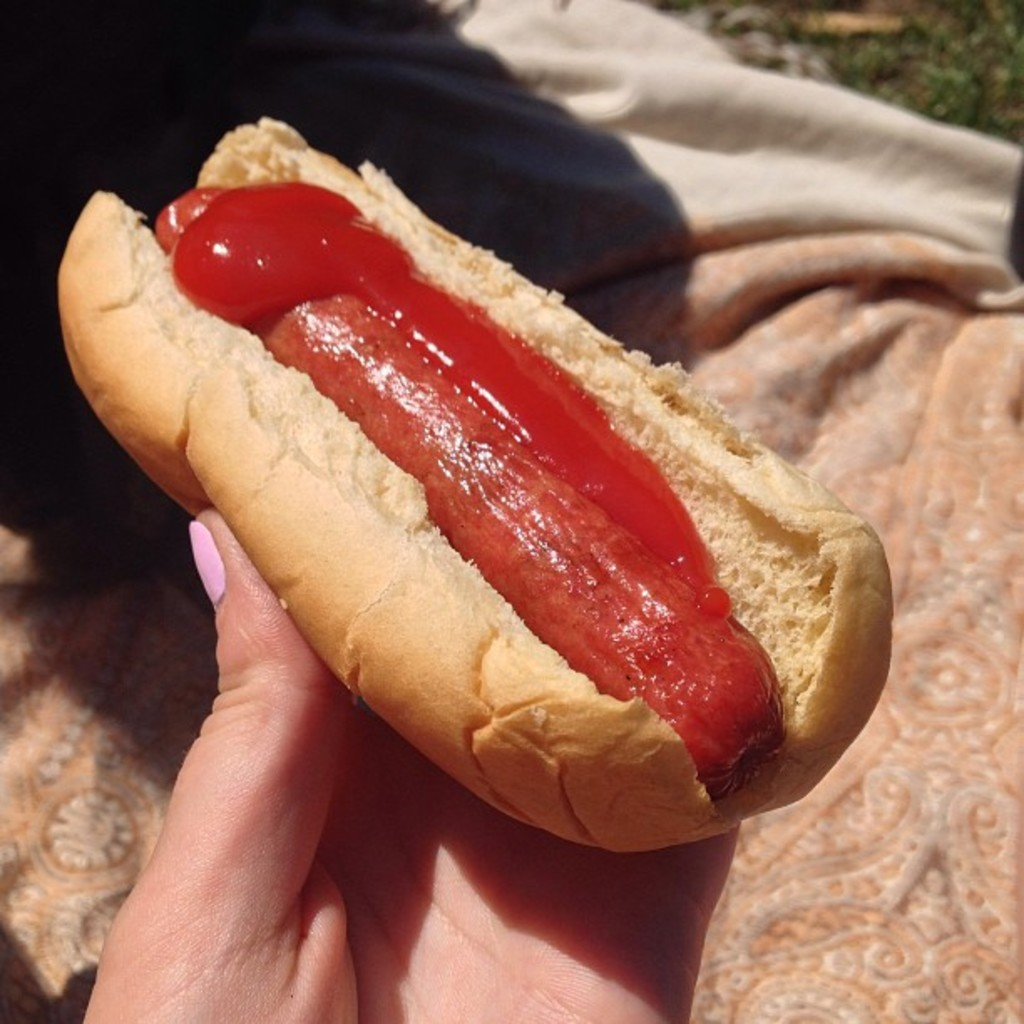hot_dog: (50, 109, 912, 873)
